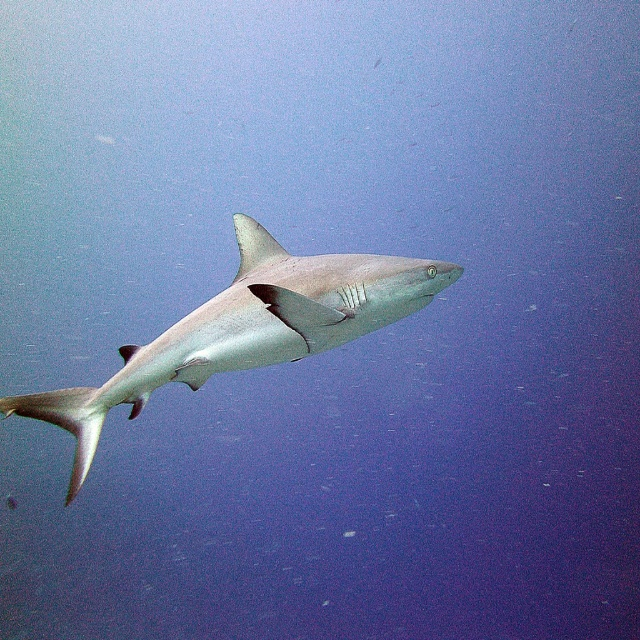Shark: (0, 212, 467, 507)
